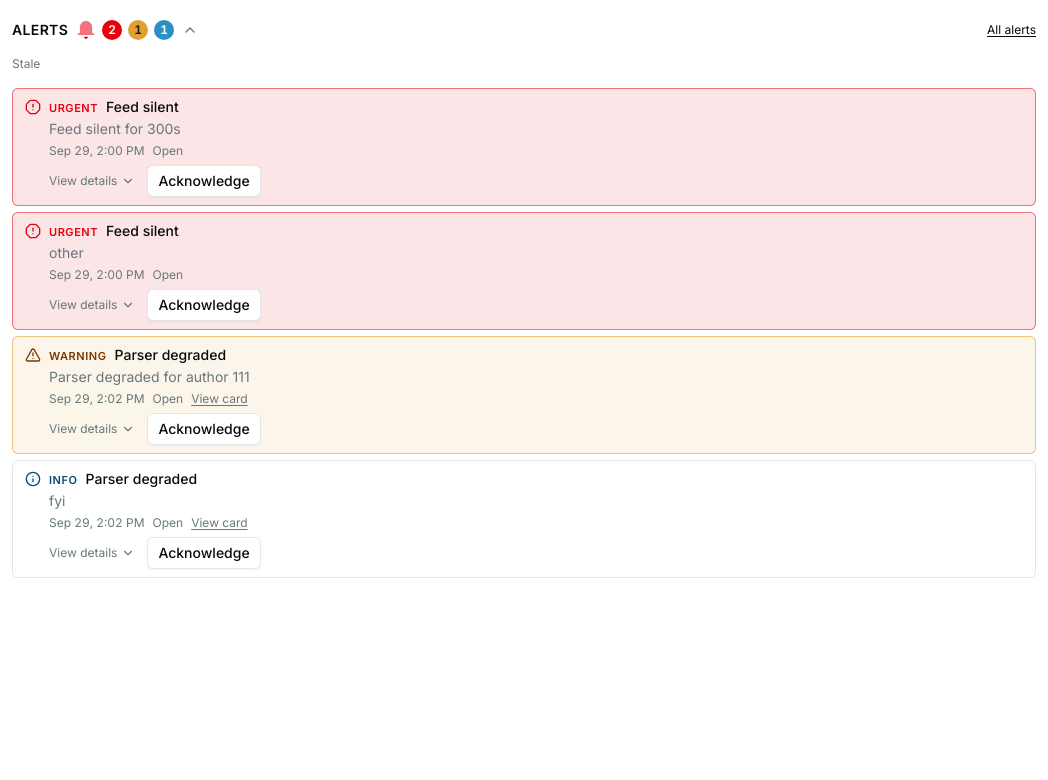
AlertList › compact header counts each severity apart and collapses by hand
This screenshot has width=1048, height=780.
expect the text "fyi" is shown: met, box [49,492,66,509]
Step 1. Click the button "Alerts 9 0 1 2 3 4 5 8 9 0 1 2 3 4 8 9 0 1 2 3 4" → (105, 30), box [12,12,198,48]
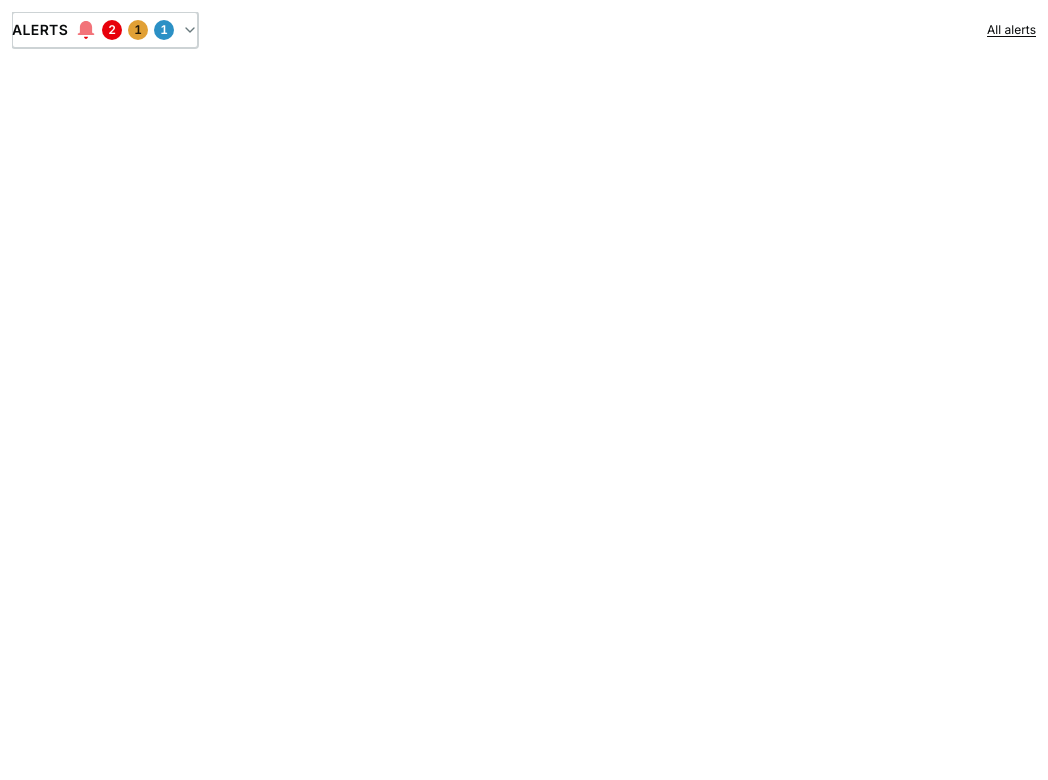
expect the text "fyi" is gone: met
